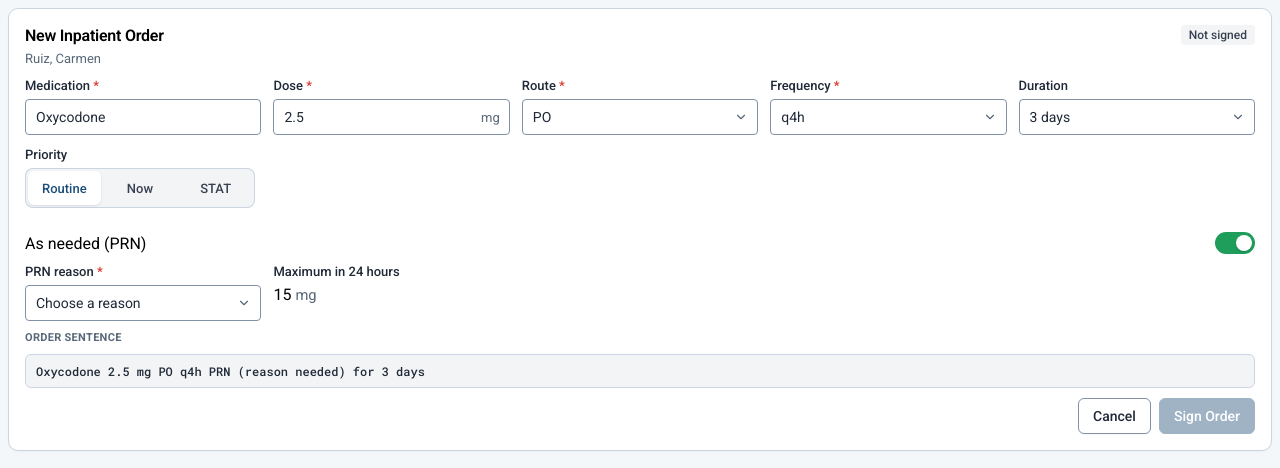
Test: InpatientOrderEntry › builds the order sentence as the prescriber edits
Check: the text "Oxycodone 2.5 mg PO q4h PRN (reason needed) for 3 days" is shown, box top-left (25, 354), bottom-right (1255, 388)
Select "Pain, moderate (4 to 6)" in the dropdown labelled "PRN reason *": (143, 303) top-left (25, 285), bottom-right (261, 321)
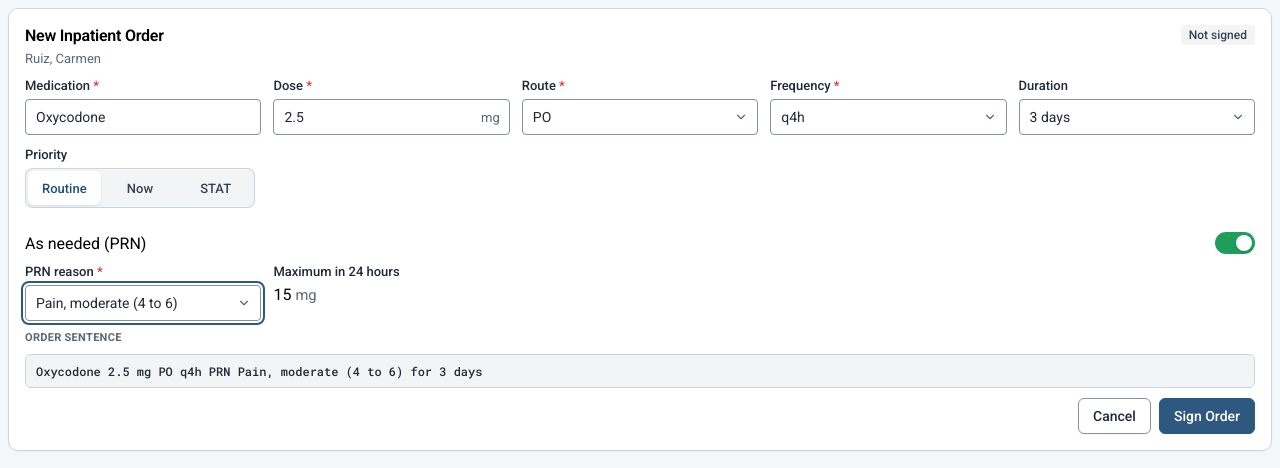
Select "q6h" in the dropdown labelled "Frequency *": (888, 117) top-left (770, 99), bottom-right (1007, 135)
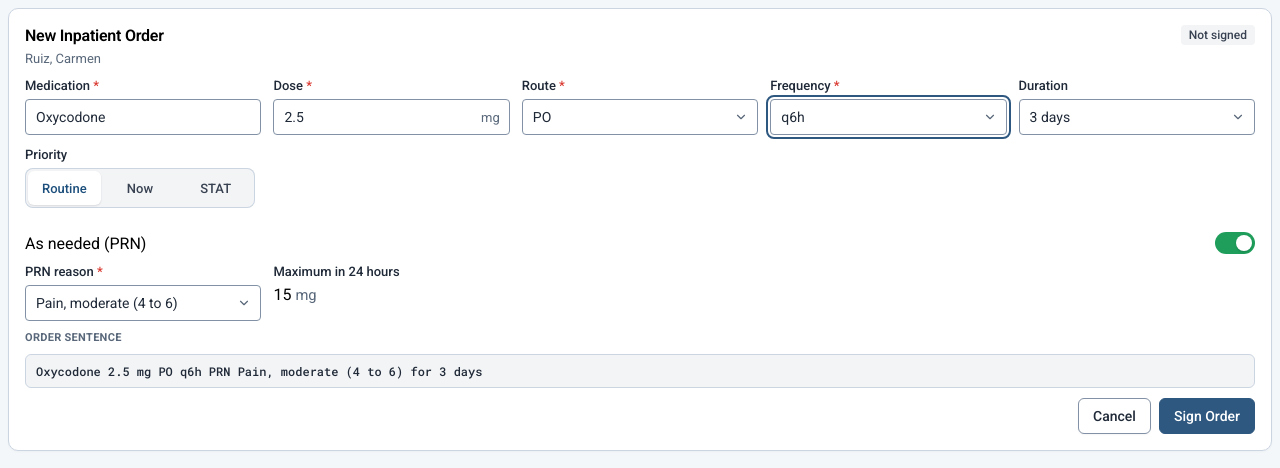
Select "Until discontinued" in the dropdown labelled "Duration": (1137, 117) top-left (1019, 99), bottom-right (1255, 135)
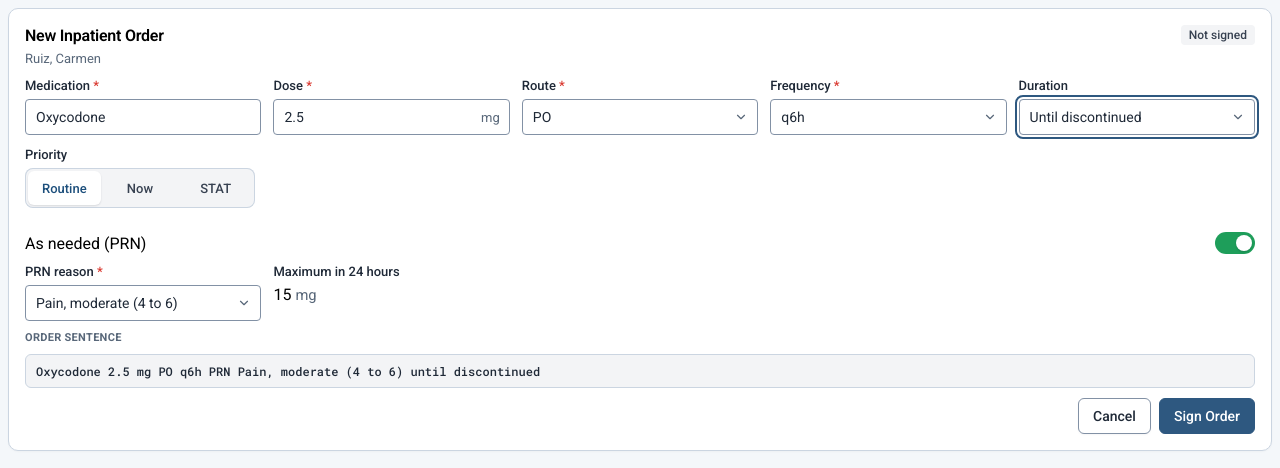
Check: the text "Oxycodone 2.5 mg PO" reads "Oxycodone 2.5 mg PO q6h PRN Pain, moderate (4 to 6) until discontinued", box top-left (36, 363), bottom-right (540, 379)
Click the switch named "As needed (PRN)": (1235, 243) top-left (1215, 232), bottom-right (1255, 254)
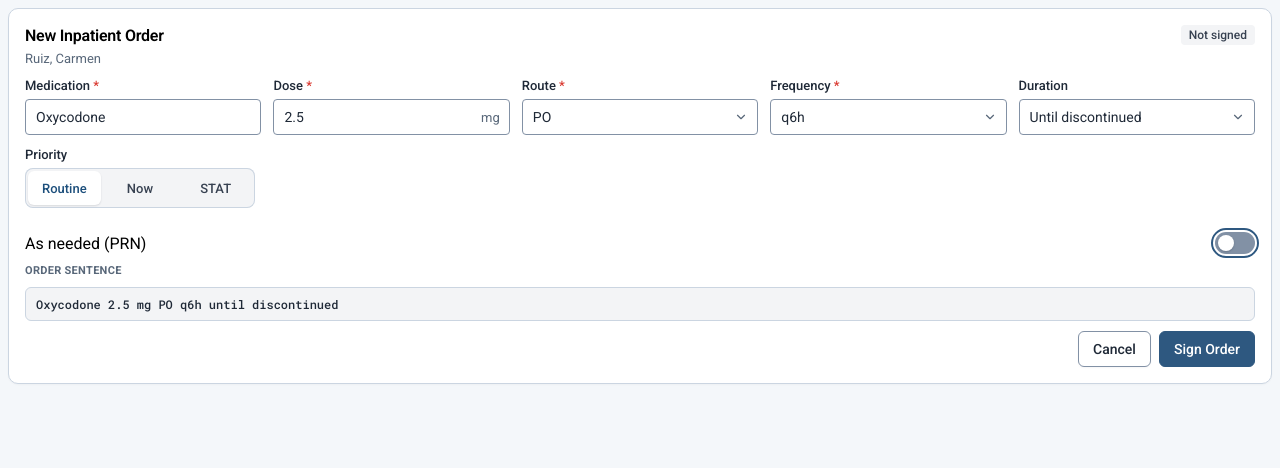
Check: the label "PRN reason" is gone
Check: the text "Oxycodone 2.5 mg PO q6h until discontinued" is shown, box top-left (25, 287), bottom-right (1255, 321)
